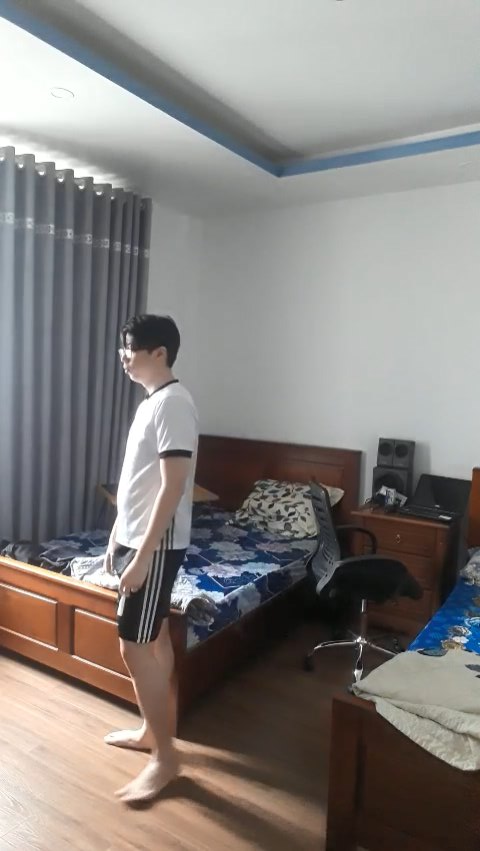cigarette: (115, 592, 128, 617)
person: (75, 313, 207, 803)
